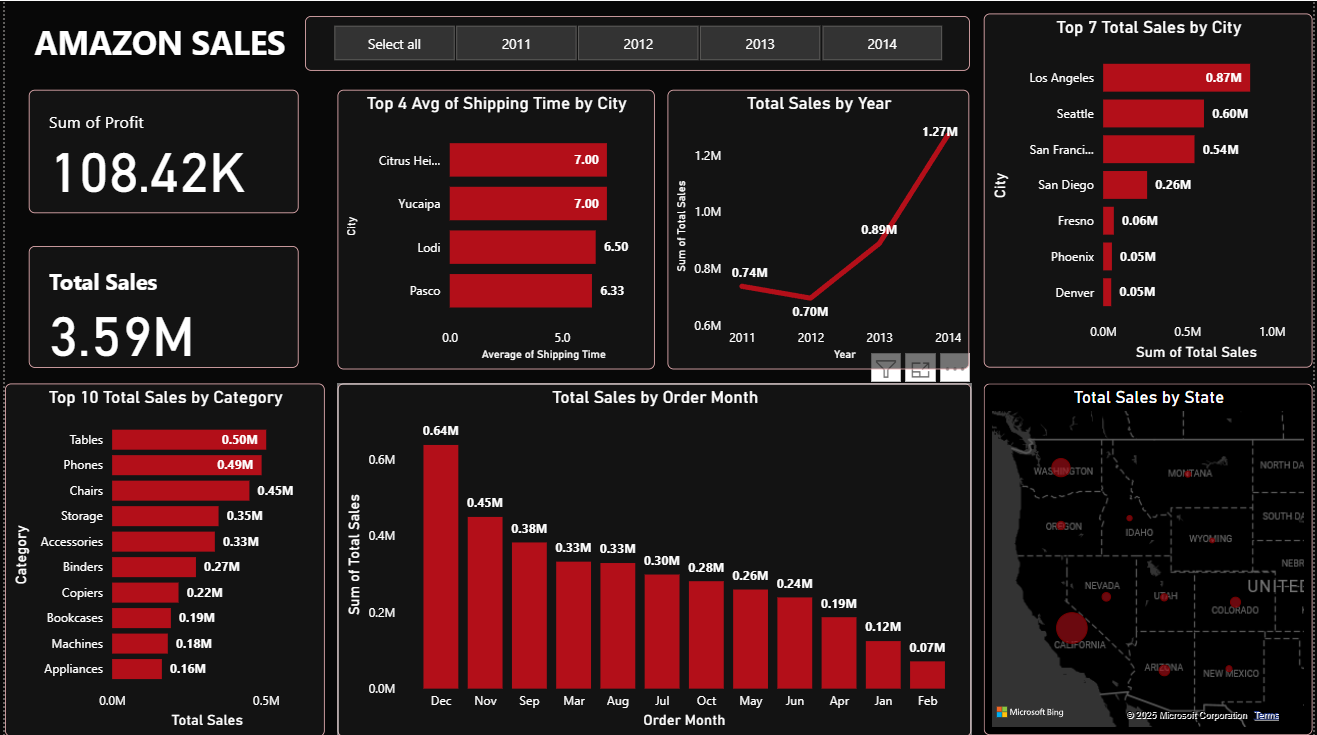

The page's visual inventory and layout, read from the dashboard file:
{"tool":"powerbi","page":{"name":"Total Sales","canvas":[1280,720],"ordinal":0},"visuals":[{"type":"barChart","title":"Top 10 Total Sales by Category","fields":{"Category":["Walmart.Category"],"Y":["Sum(Walmart.Total Sales)"]},"box":[0,374.7,313,345.3],"z":0},{"type":"columnChart","title":"Total Sales by Order Month","fields":{"Category":["Walmart.Order Month"],"Y":["Sum(Walmart.Total Sales)"]},"box":[324.7,374.7,620.1,345.3],"z":1000},{"type":"textbox","box":[17.6,13.2,277.7,52.9],"z":2000},{"type":"slicer","fields":{"Values":["Walmart.Order Date.Variation.Date Hierarchy.Year"]},"box":[294,15.1,650.1,53.8],"z":3000},{"type":"map","title":"Total Sales by State","fields":{"Category":["Walmart.State"],"Size":["Sum(Walmart.Total Sales)"]},"box":[958,374.7,321.8,343.8],"z":4000},{"type":"cardVisual","fields":{"Data":["Sum(Walmart.Profit)"]},"box":[23.5,87.3,263.7,120.9],"z":5000},{"type":"cardVisual","fields":{"Data":["Sum(Walmart.Total Sales)"]},"box":[23.5,240.2,263.7,119.3],"z":6000},{"type":"lineChart","title":"Total Sales by Year","fields":{"Category":["Walmart.Order Date.Variation.Date Hierarchy.Year"],"Y":["Sum(Walmart.Total Sales)"]},"box":[648,86.7,295.3,273.3],"z":7000},{"type":"barChart","title":"Top 7 Total Sales by City","fields":{"Category":["Walmart.City"],"Y":["Sum(Walmart.Total Sales)"]},"box":[958,11.8,321.8,346.8],"z":8000},{"type":"clusteredBarChart","title":"Top 4 Avg of Shipping Time by City","fields":{"Category":["Walmart.City"],"Y":["Avg(Walmart.Shipping Time)"]},"box":[324.7,86.7,310,273.3],"z":9000}]}

Visuals, with their boxes in screenshot pixels (x1, y1, x2, y2), scaled from the page's 1280x720 canvas onto the 1317x735 screenshot:
"Top 10 Total Sales by Category" barChart: [0,383,322,734]
"Total Sales by Order Month" columnChart: [334,383,972,734]
textbox: [18,13,304,67]
slicer - Walmart.Order Date.Variation.Date Hierarchy.Year: [302,15,971,70]
"Total Sales by State" map: [986,383,1316,733]
cardVisual - Sum(Walmart.Profit): [24,89,296,213]
cardVisual - Sum(Walmart.Total Sales): [24,245,296,367]
"Total Sales by Year" lineChart: [667,89,971,368]
"Top 7 Total Sales by City" barChart: [986,12,1316,366]
"Top 4 Avg of Shipping Time by City" clusteredBarChart: [334,89,653,368]
